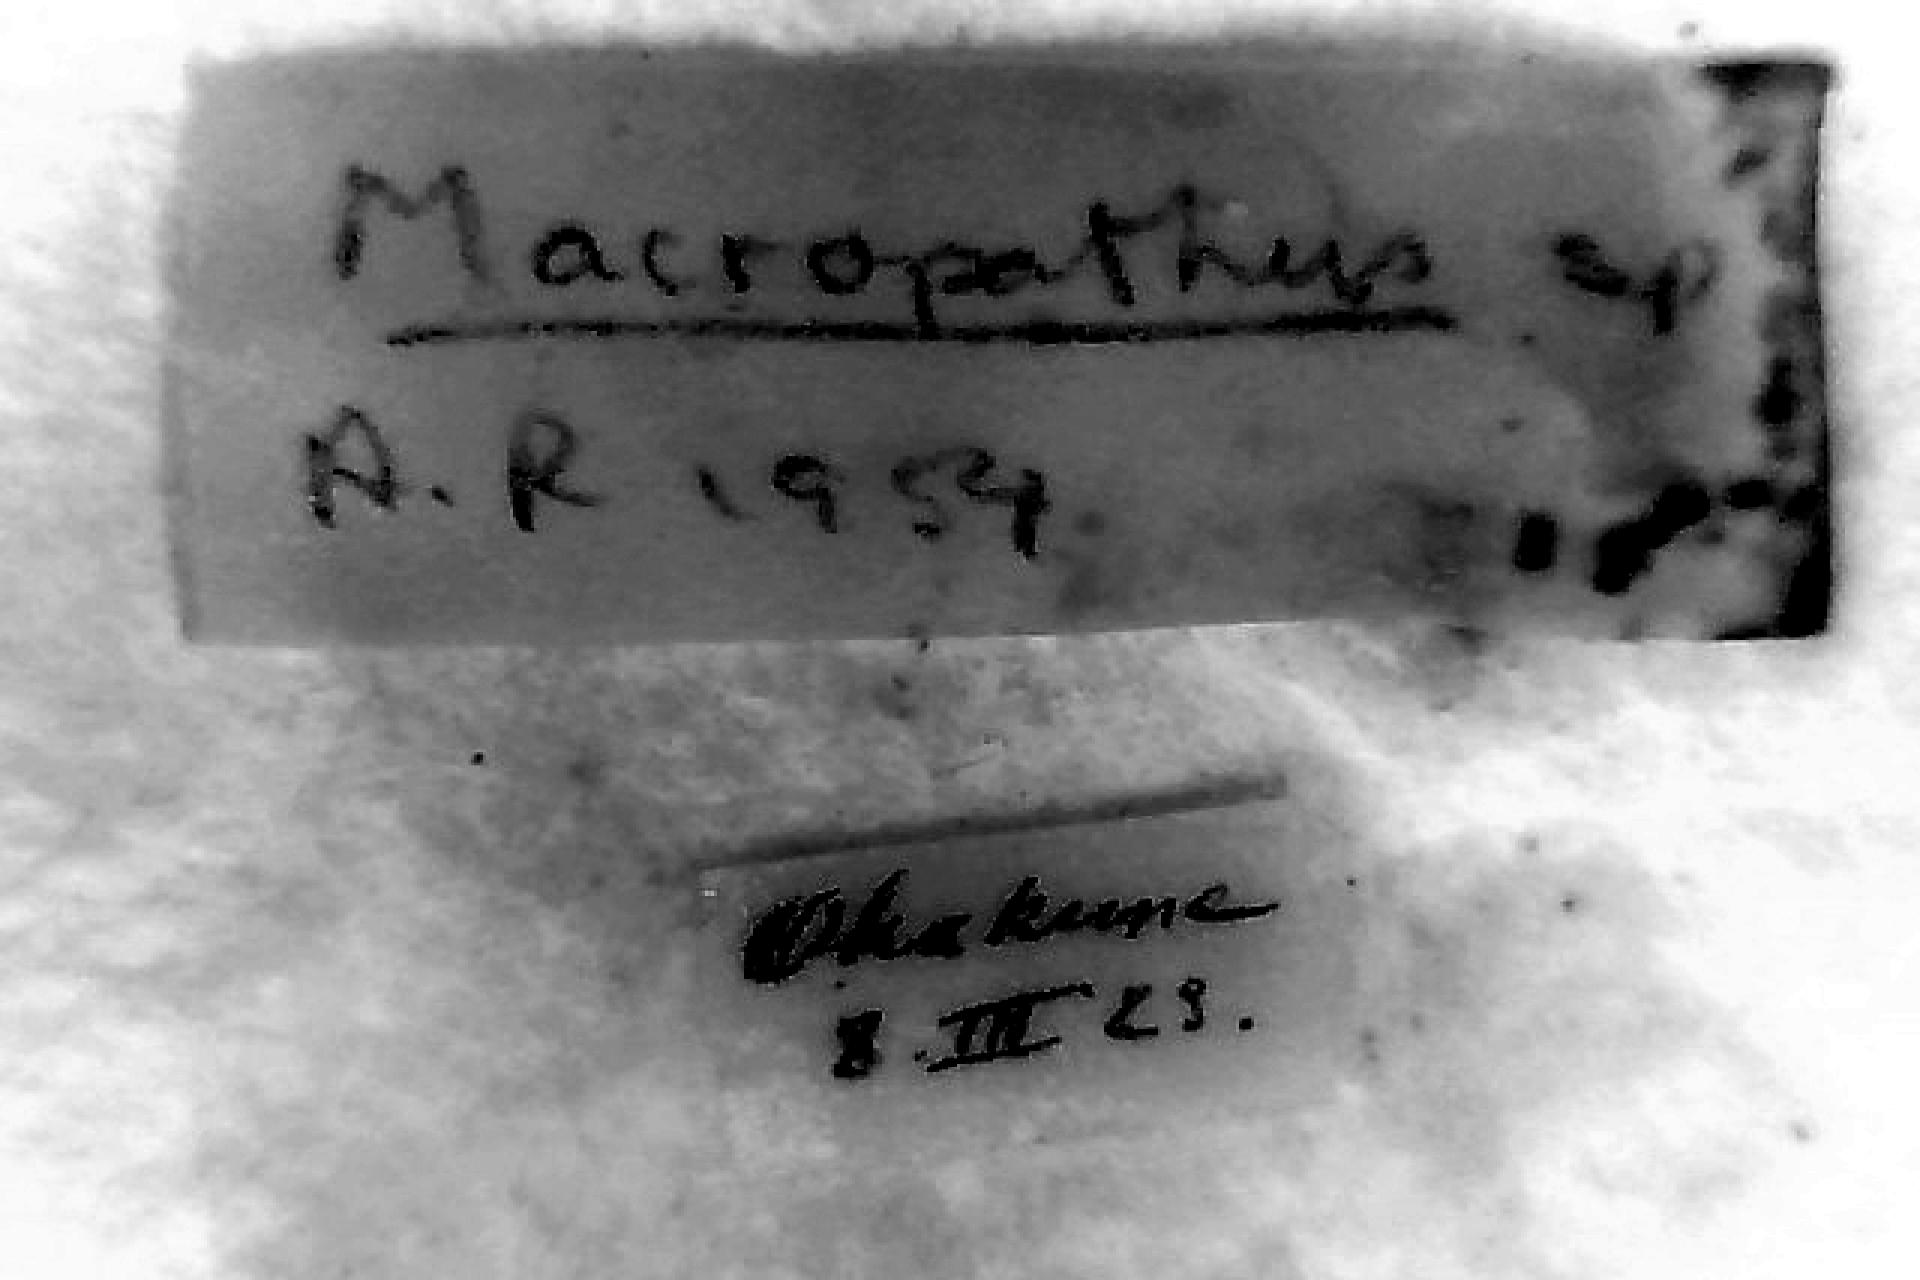hand_label: (172, 50, 1826, 643), (705, 800, 1358, 1168)
